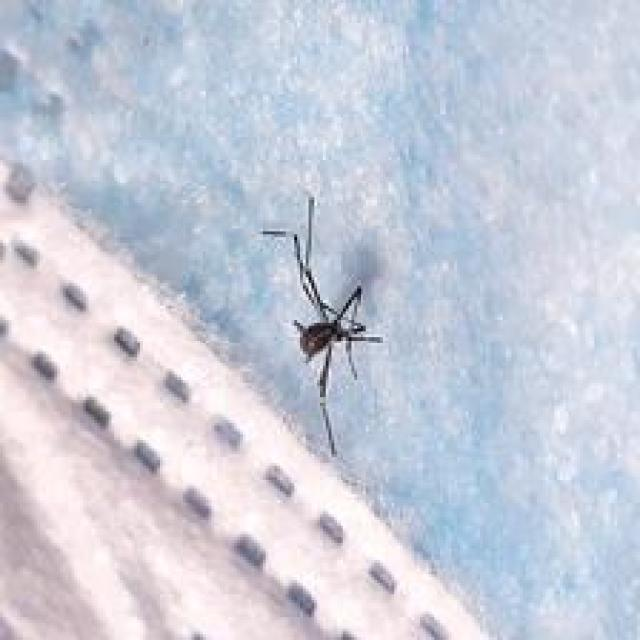Aedes albopictus: (259, 194, 384, 457)
